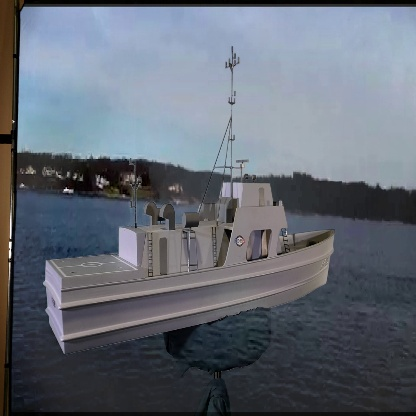YP689: (40, 43, 339, 368)
